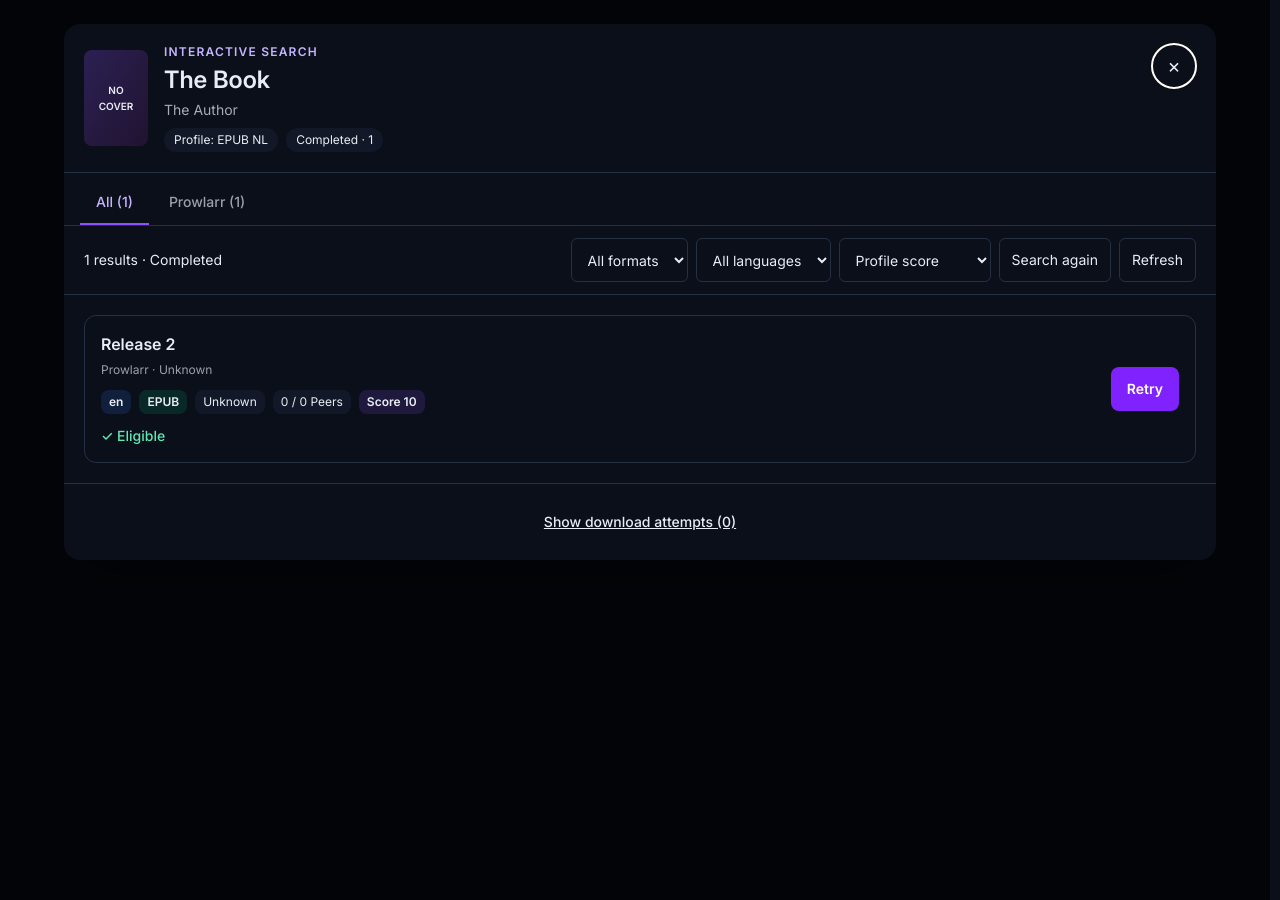
Test: InteractiveSearchModal › shows candidate retry failures as a visible error and toast
The width and height of the screenshot is (1280, 900).
Click the button "Retry". click: (1145,389)
box: [1111, 367, 1179, 411]
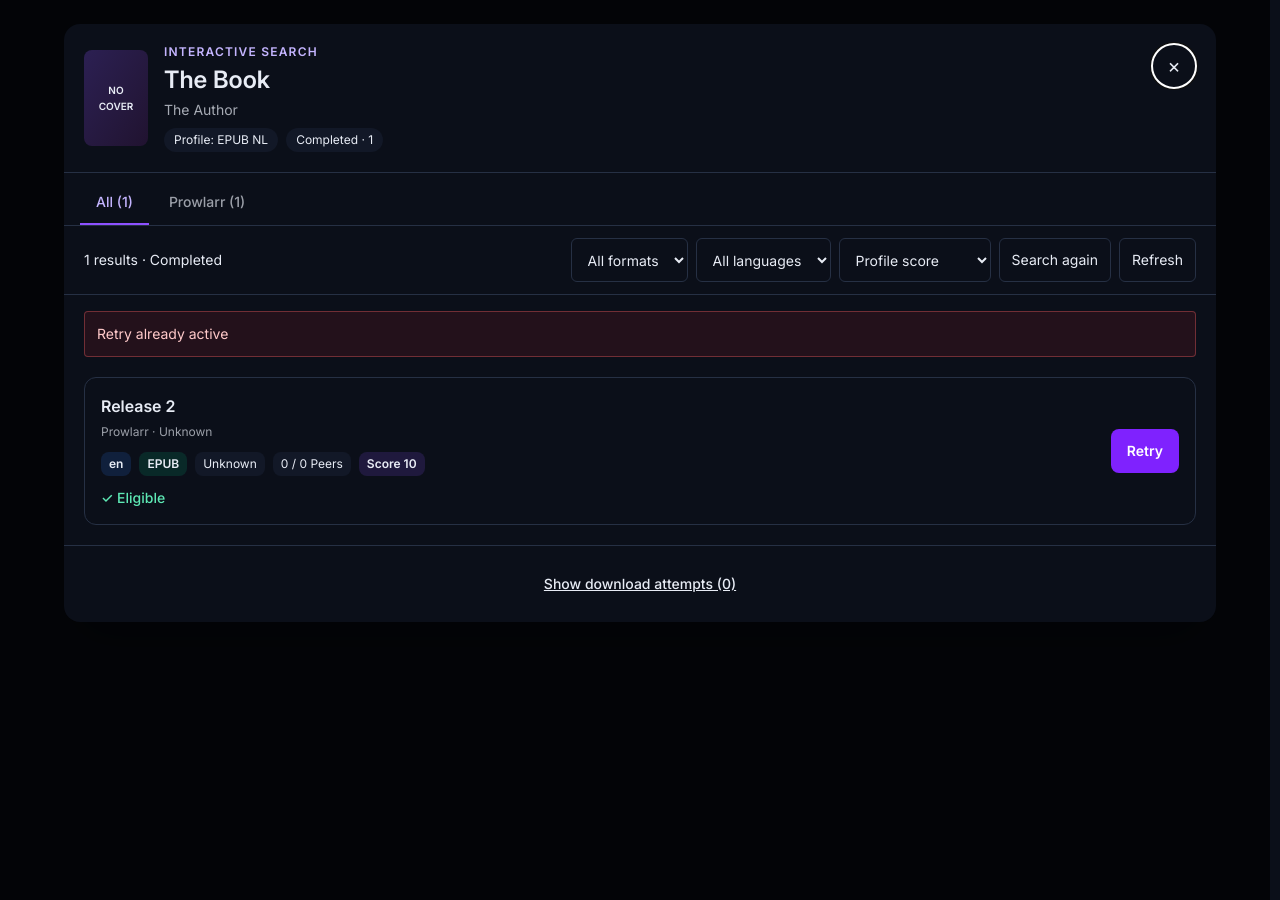
Expected: the text "Retry already active" is shown, [84, 311, 1196, 357]
